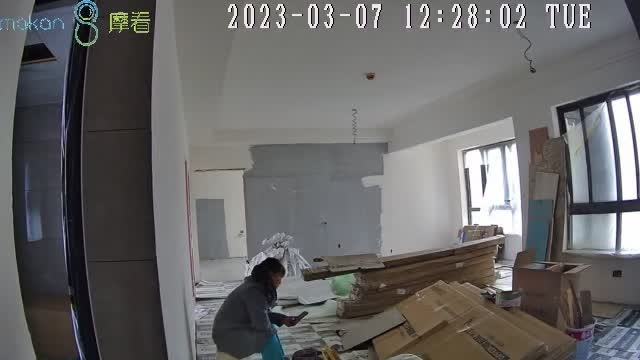people: (211, 258, 304, 360)
window: (555, 88, 640, 257), (459, 139, 523, 236)
